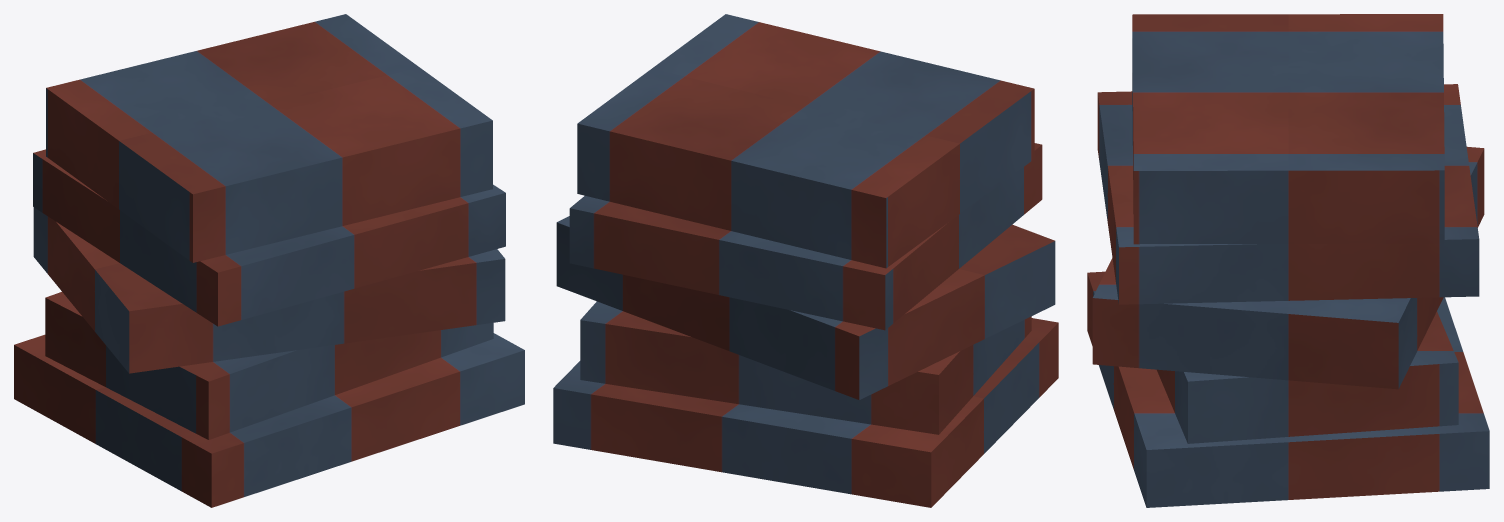
Rendered from Book_Stack_2.gltf.
The picture shows the model from 3 angles, left to right: view 1: azimuth 30°, elevation 25°; view 2: azimuth 150°, elevation 25°; view 3: azimuth 270°, elevation 25°; orthographic projection. The views are drawn at different scales.
Visible parts, largest first — view 1: Book_Stack_2; view 2: Book_Stack_2; view 3: Book_Stack_2.
Boxes of the visible parts, left/top/right/bottom form: Book_Stack_2: left=14, top=14, right=524, bottom=507; Book_Stack_2: left=553, top=14, right=1058, bottom=507; Book_Stack_2: left=1087, top=14, right=1489, bottom=507.
Size of the model in its own units: 0.27 by 0.2 by 0.23.
Materials: 1 (1 with a texture image).
